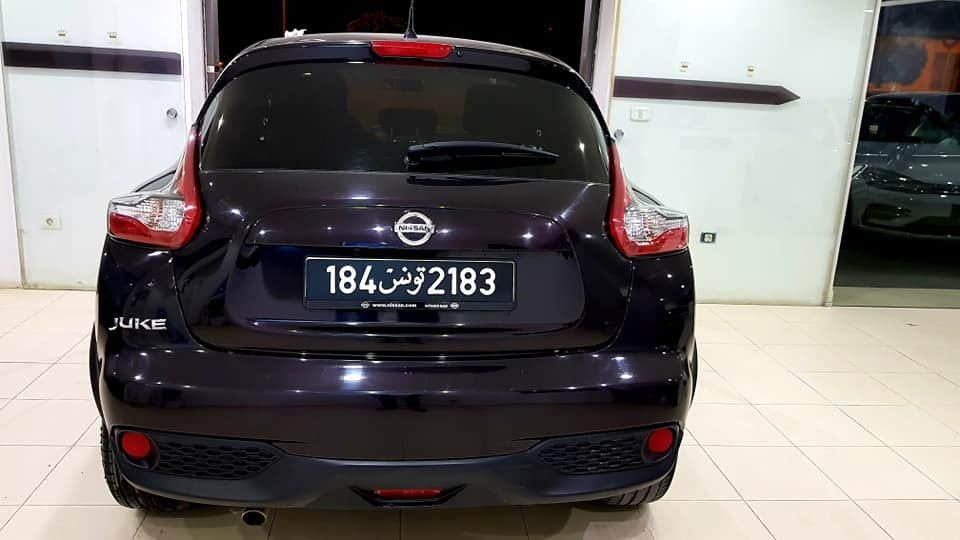LP: (308, 260, 512, 307)
